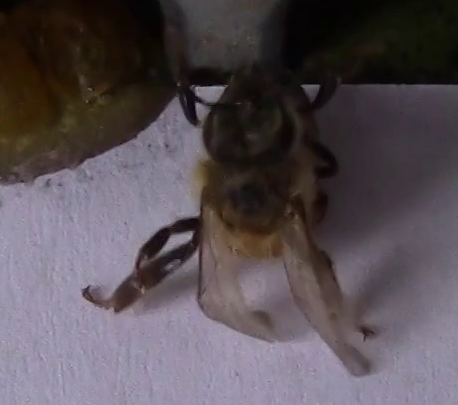Varroa destructor: (308, 191, 333, 229)
